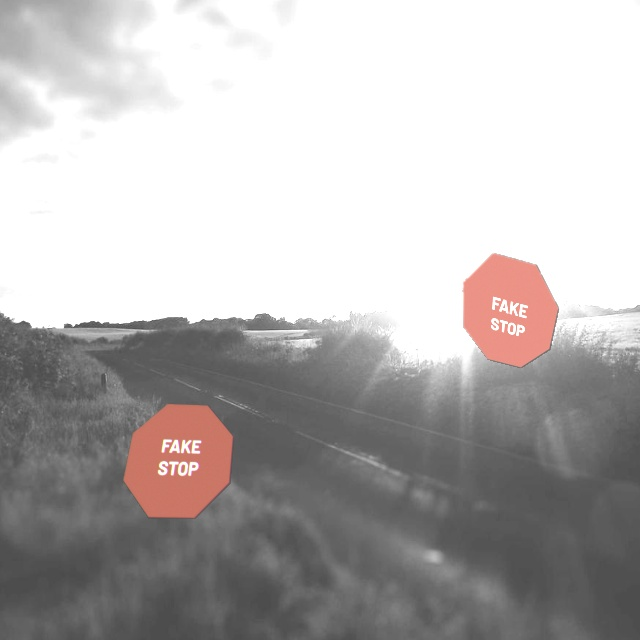FAKE_STOP: (122, 403, 234, 519), (462, 252, 559, 368)
